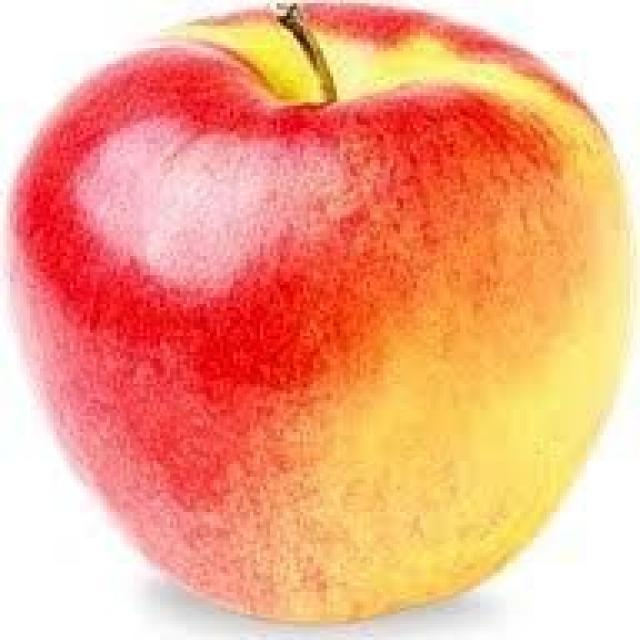Fresh Apple: (8, 11, 640, 639)
